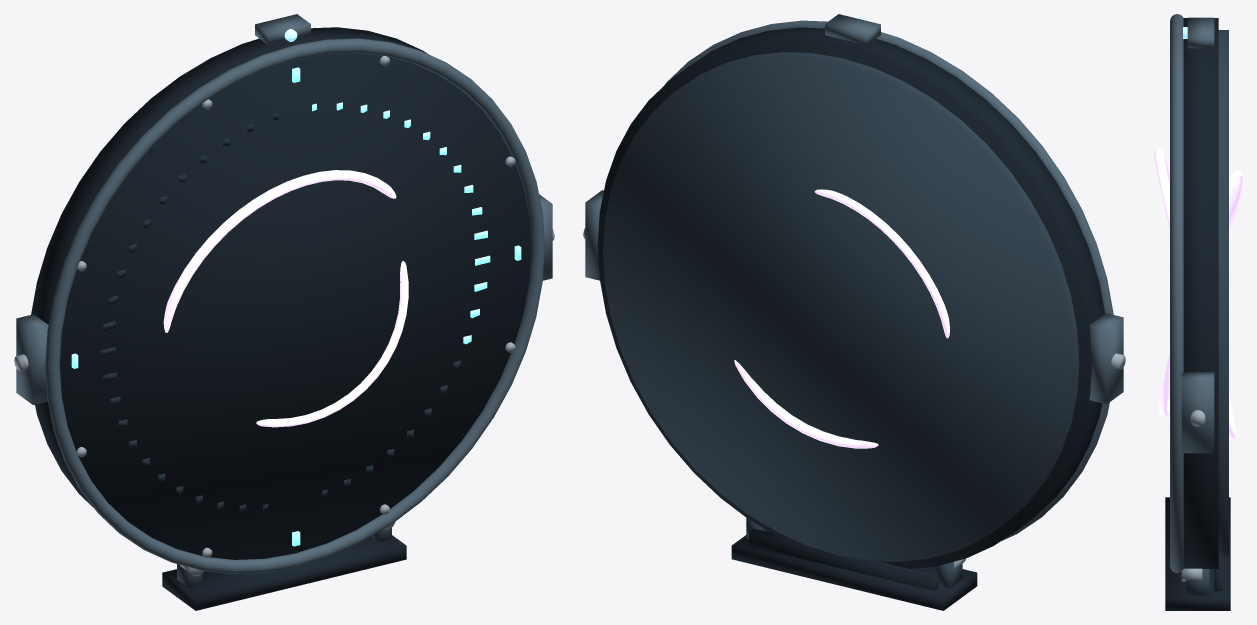
Rendered from sandbox-inference-instrument.backup-20261018-120603.glb.
The picture shows the model from 3 angles, left to right: view 1: azimuth 30°, elevation 25°; view 2: azimuth 150°, elevation 25°; view 3: azimuth 270°, elevation 25°; orthographic projection. The views are drawn at different scales.
Visible parts, largest first — view 1: housing_bezel_outer, housing_front_rim, base_platform_plinth, uncertainty_signal_ring_primary, housing_flange_left, uncertainty_signal_ring_secondary, edge_telemetry_bus_bracket, housing_flange_right; view 2: housing_rear_casing, housing_bezel_outer, housing_front_rim, base_platform_plinth, base_stabilizer_plate, housing_flange_left, uncertainty_signal_ring_secondary, uncertainty_signal_ring_primary, edge_telemetry_bus_bracket, housing_flange_right; view 3: housing_bezel_outer, housing_front_rim, housing_rear_casing, housing_flange_right, base_platform_plinth, uncertainty_signal_ring_secondary, uncertainty_signal_ring_primary, edge_telemetry_bus_bracket, base_stanchion_right, base_stabilizer_plate, base_pivot_bushing_right, housing_flange_pin_right.
Part boxes in pixels (x1,y1,x2,y2): housing_bezel_outer: (31, 27, 531, 559); housing_front_rim: (45, 38, 544, 573); base_platform_plinth: (162, 535, 406, 610); uncertainty_signal_ring_primary: (163, 170, 396, 332); housing_flange_left: (16, 314, 48, 404); uncertainty_signal_ring_secondary: (256, 261, 408, 427); edge_telemetry_bus_bracket: (255, 14, 310, 45); housing_flange_right: (539, 194, 552, 280); housing_rear_casing: (603, 52, 1079, 561); housing_bezel_outer: (597, 27, 1104, 568); housing_front_rim: (664, 20, 1113, 541); base_platform_plinth: (731, 535, 977, 610); base_stabilizer_plate: (749, 528, 938, 590); housing_flange_left: (1089, 313, 1123, 404); uncertainty_signal_ring_secondary: (814, 189, 949, 338); uncertainty_signal_ring_primary: (734, 360, 878, 448); edge_telemetry_bus_bracket: (825, 14, 880, 45); housing_flange_right: (585, 190, 603, 280); housing_bezel_outer: (1183, 18, 1218, 568); housing_front_rim: (1170, 14, 1183, 572); housing_rear_casing: (1218, 30, 1228, 556); housing_flange_right: (1181, 372, 1214, 453); base_platform_plinth: (1165, 497, 1230, 610); uncertainty_signal_ring_secondary: (1159, 170, 1242, 416); uncertainty_signal_ring_primary: (1154, 148, 1235, 439); edge_telemetry_bus_bracket: (1187, 17, 1214, 48); base_stanchion_right: (1186, 569, 1209, 595); base_stabilizer_plate: (1214, 557, 1222, 591); base_pivot_bushing_right: (1181, 568, 1202, 581); housing_flange_pin_right: (1190, 410, 1205, 426).
Size of the model in its own units: 4.04 by 3.97 by 0.5981.
